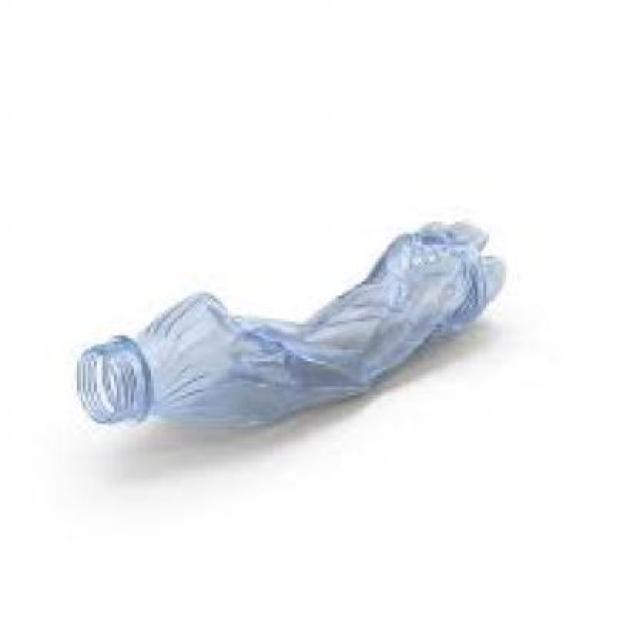chai: (78, 222, 505, 426)
